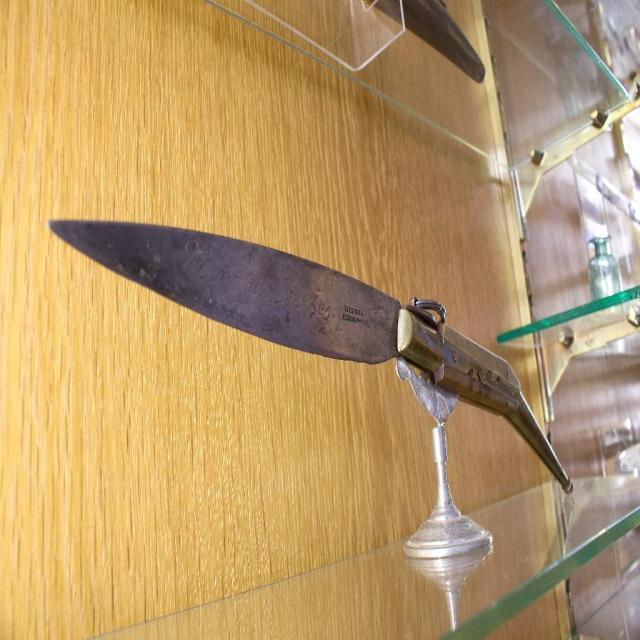Knife: (47, 220, 569, 492)
